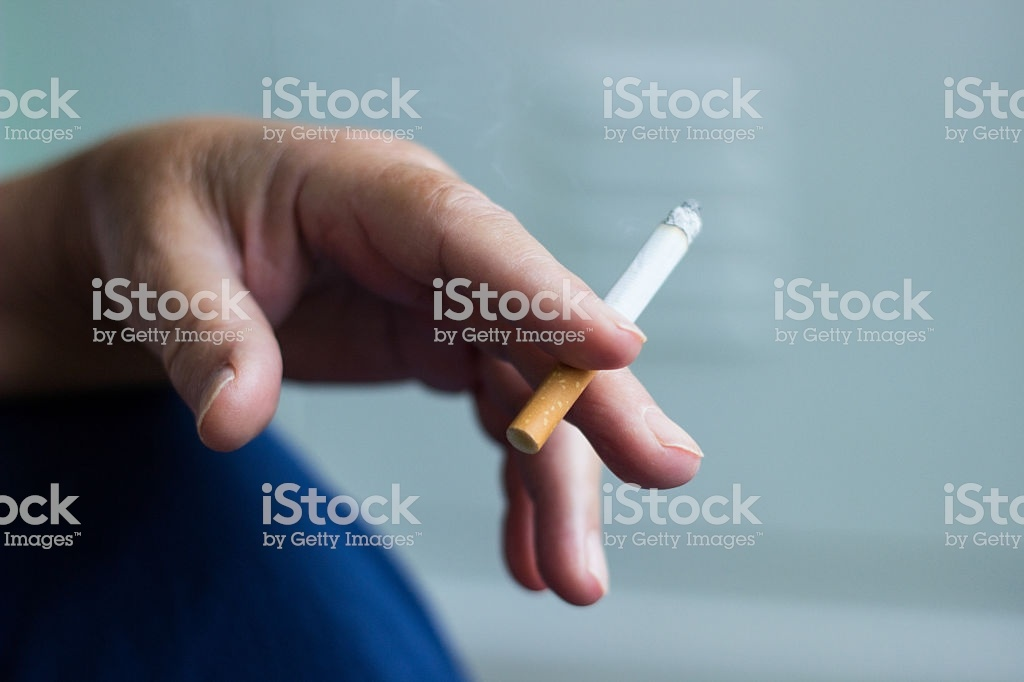sigaretta: (514, 202, 701, 453)
